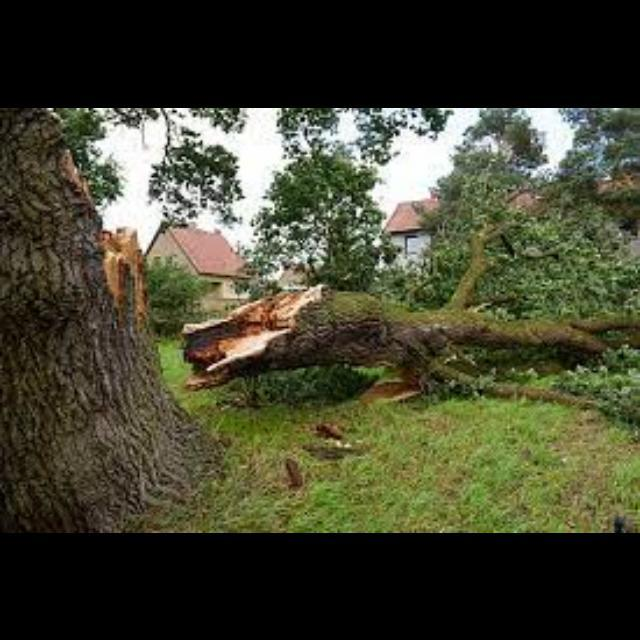fallen_tree: (183, 170, 639, 416)
